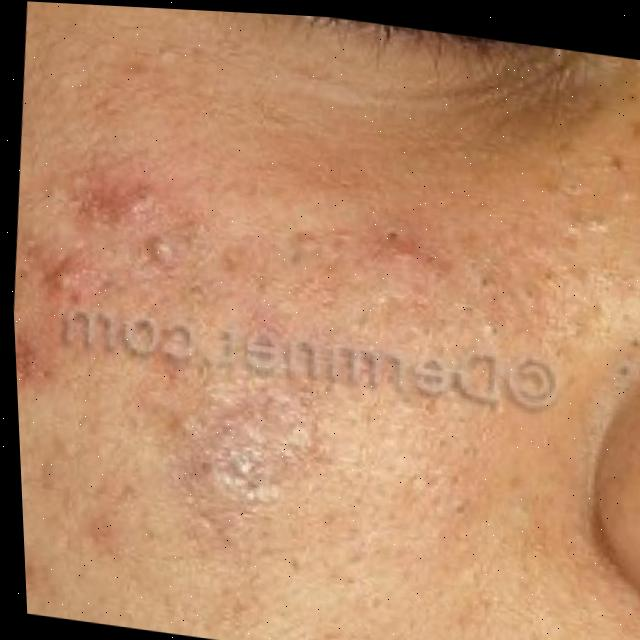Acne: (1, 19, 640, 640)
